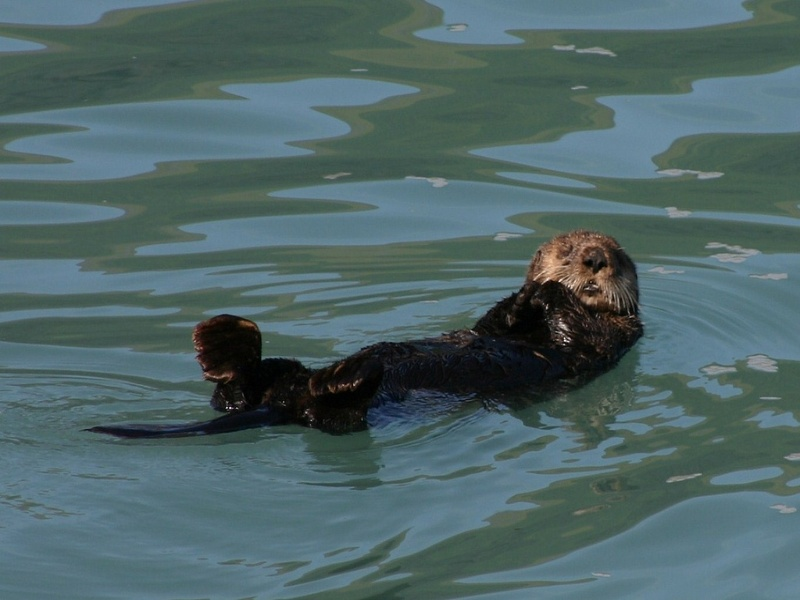minkish: (73, 226, 651, 459)
